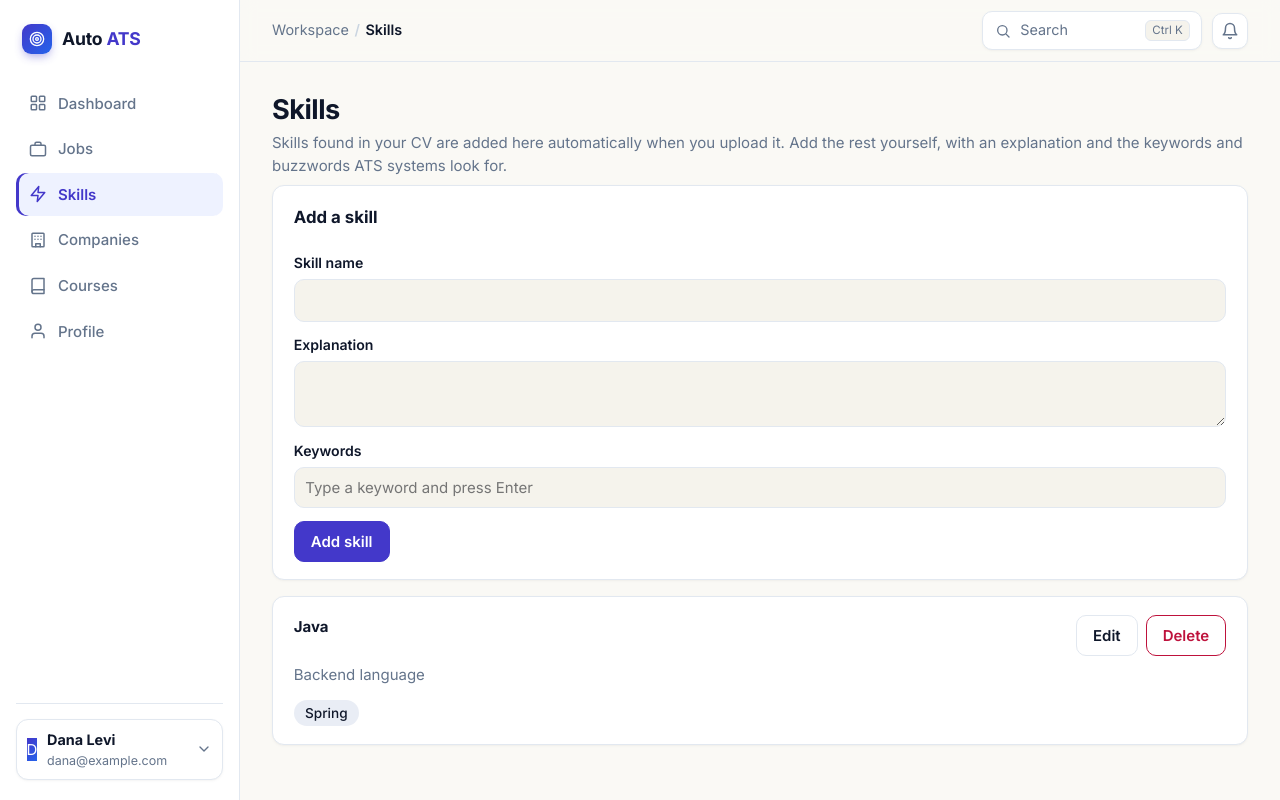
Test: SkillsPage › GivenEditedSkill_WhenSaving_ThenItIsUpdatedAndFormResets
Click the button with aria-label "Edit Java": (1107, 636) [1076,615,1138,656]
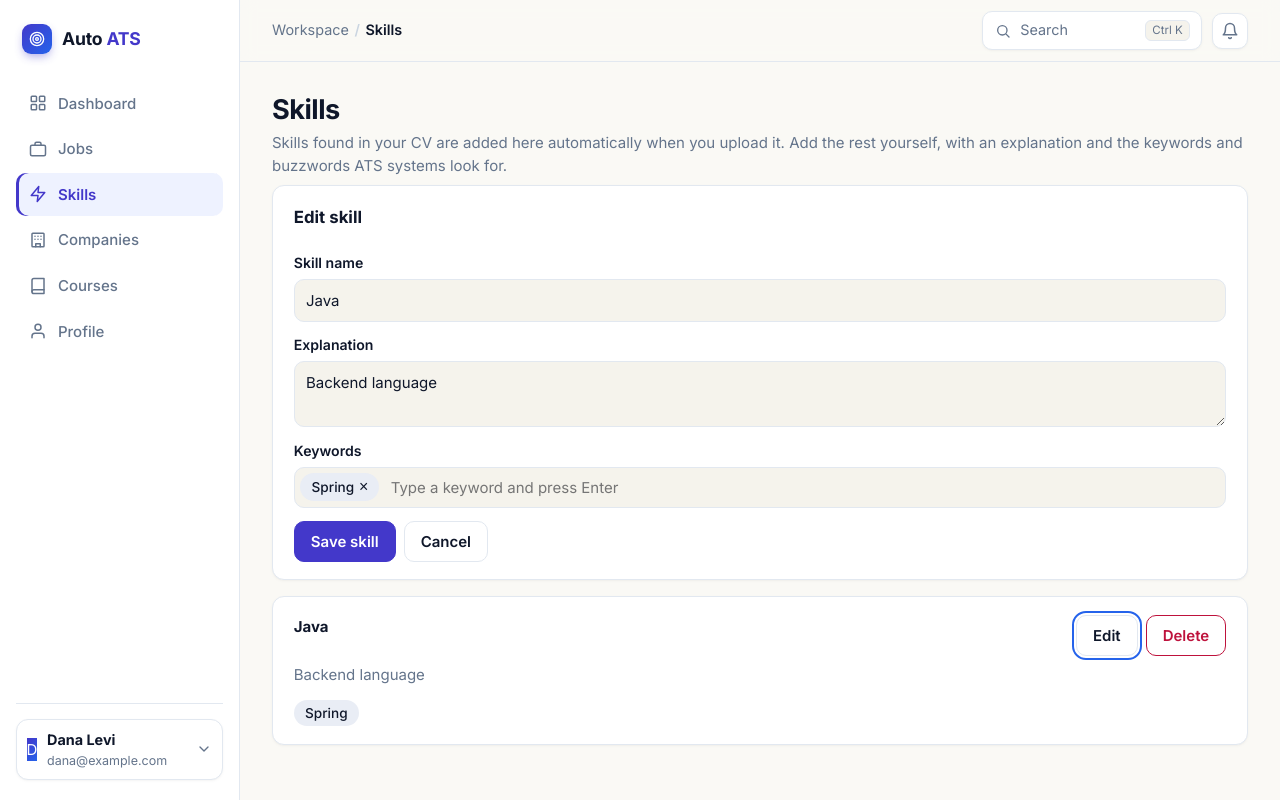
Replace the text in the field labelled "Skill name" with "Kotlin": (760, 300) [294,279,1226,322]
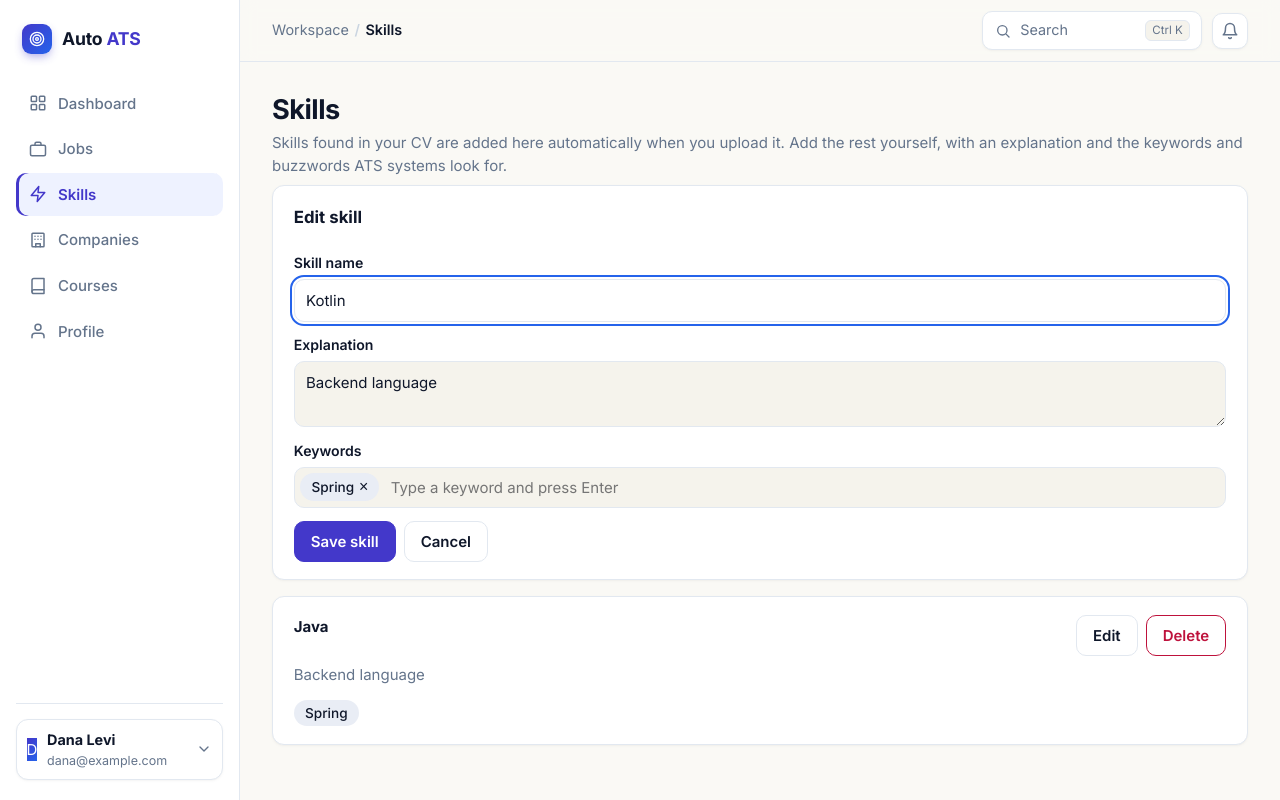
Click the button "Save skill": (345, 541) [294,521,396,562]
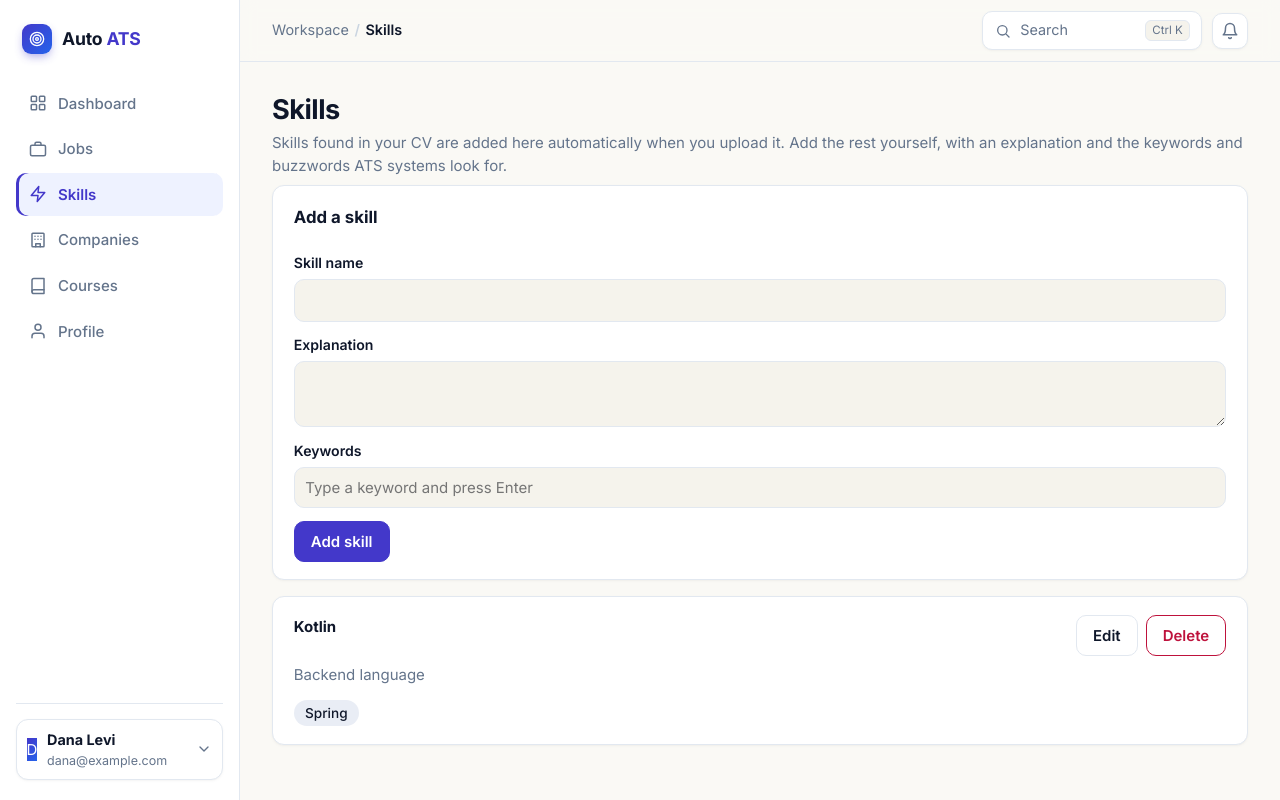
Expected: the text "Kotlin" is shown, [294,617,336,636]
Expected: the heading "Add a skill" is shown, [294,207,378,227]
